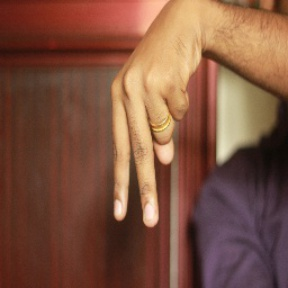Y: (101, 34, 199, 232)
